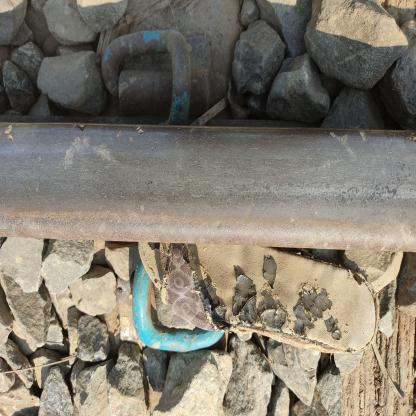Non Defective: (167, 35, 358, 416)
